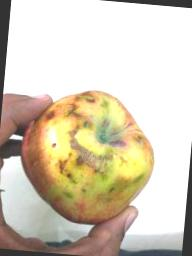Apple Overripe: (17, 80, 164, 229)
